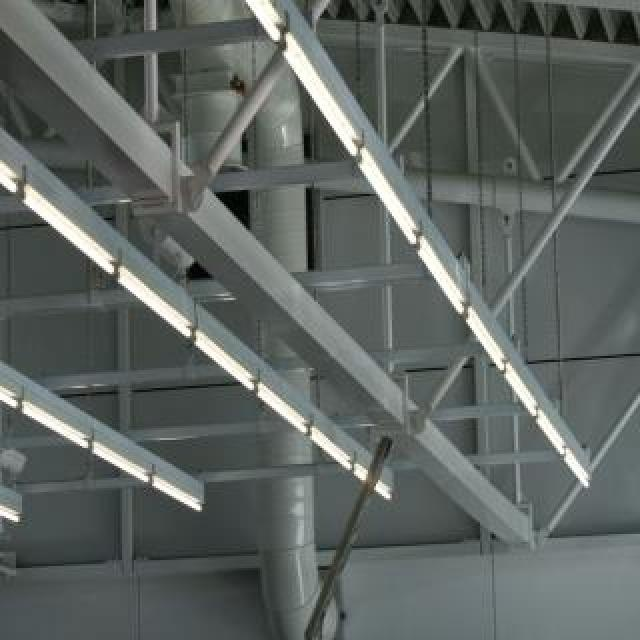fluorescent tube: (258, 15, 369, 169), (9, 165, 124, 313), (94, 225, 211, 363), (329, 115, 433, 257), (0, 358, 100, 468), (189, 309, 275, 413), (396, 220, 473, 335), (245, 358, 323, 462), (162, 0, 298, 54), (75, 419, 169, 497), (293, 415, 358, 497), (0, 28, 28, 218), (0, 310, 38, 446), (467, 295, 513, 397), (344, 451, 404, 522), (138, 465, 206, 527), (491, 355, 551, 425), (558, 449, 613, 509), (531, 385, 567, 467), (0, 474, 28, 540)
